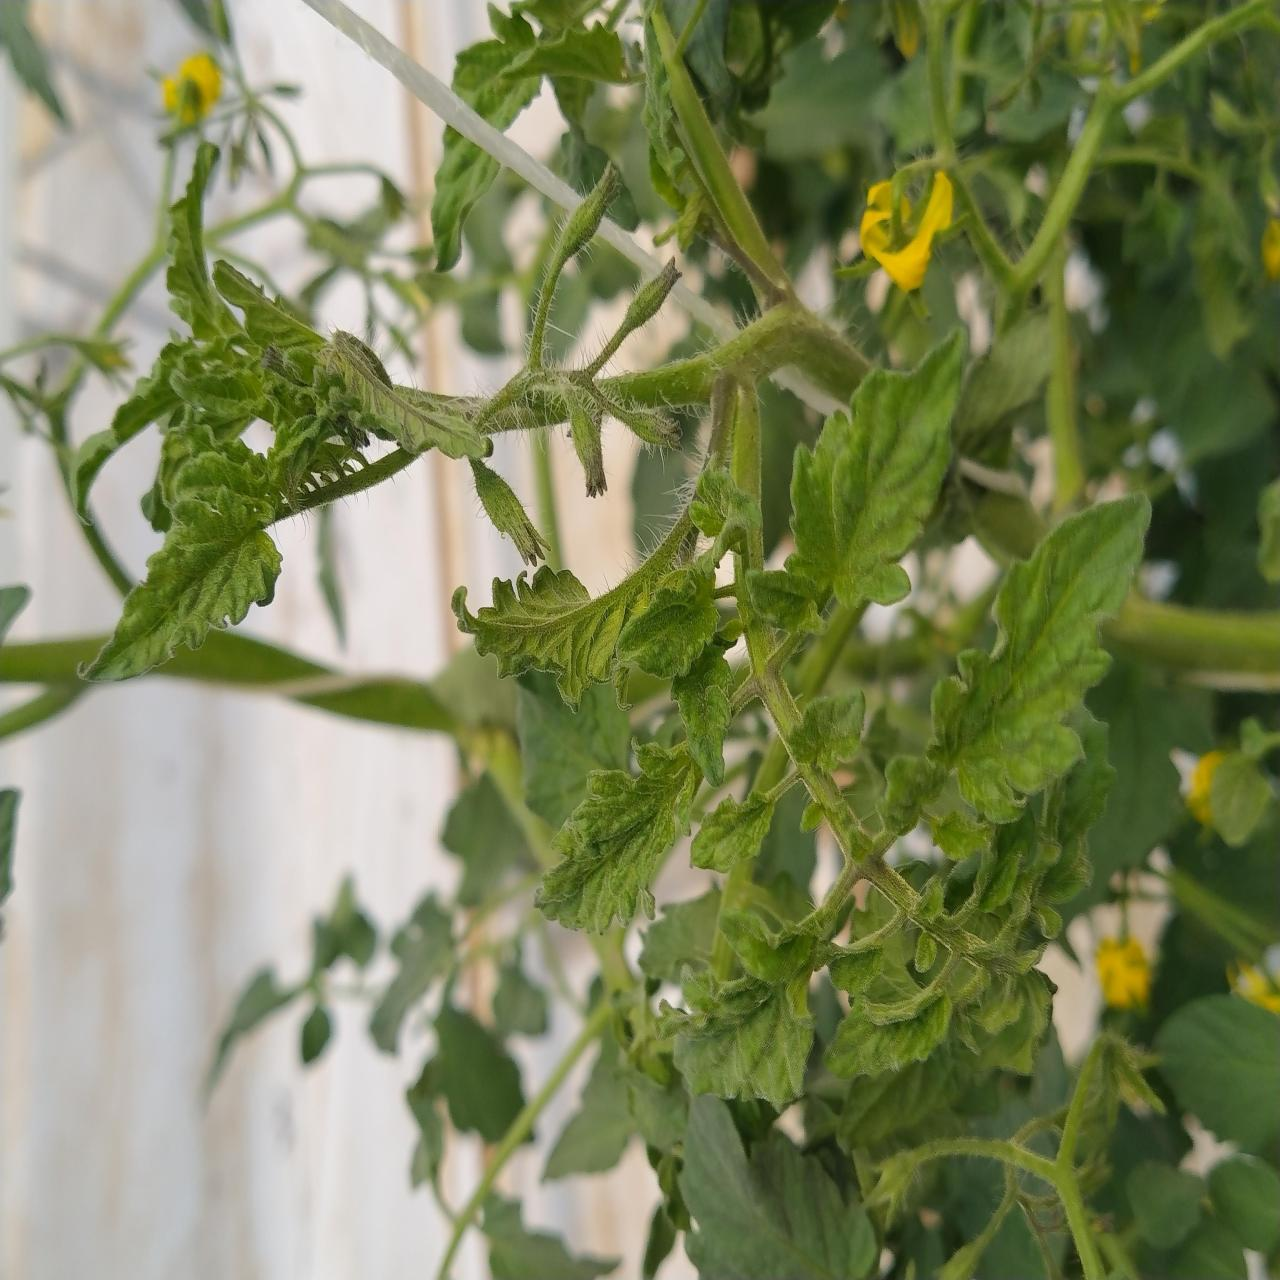T_Fl_R: (526, 164, 621, 372), (586, 261, 681, 377), (471, 461, 549, 564), (571, 408, 610, 498), (619, 411, 681, 451)
T_L_R: (930, 493, 1151, 824), (789, 334, 964, 608), (456, 511, 696, 708), (84, 491, 281, 681), (536, 744, 704, 934), (321, 331, 493, 458), (659, 968, 813, 1108), (826, 990, 954, 1078), (619, 571, 719, 678), (674, 644, 734, 788), (692, 794, 776, 874), (789, 694, 866, 771)
